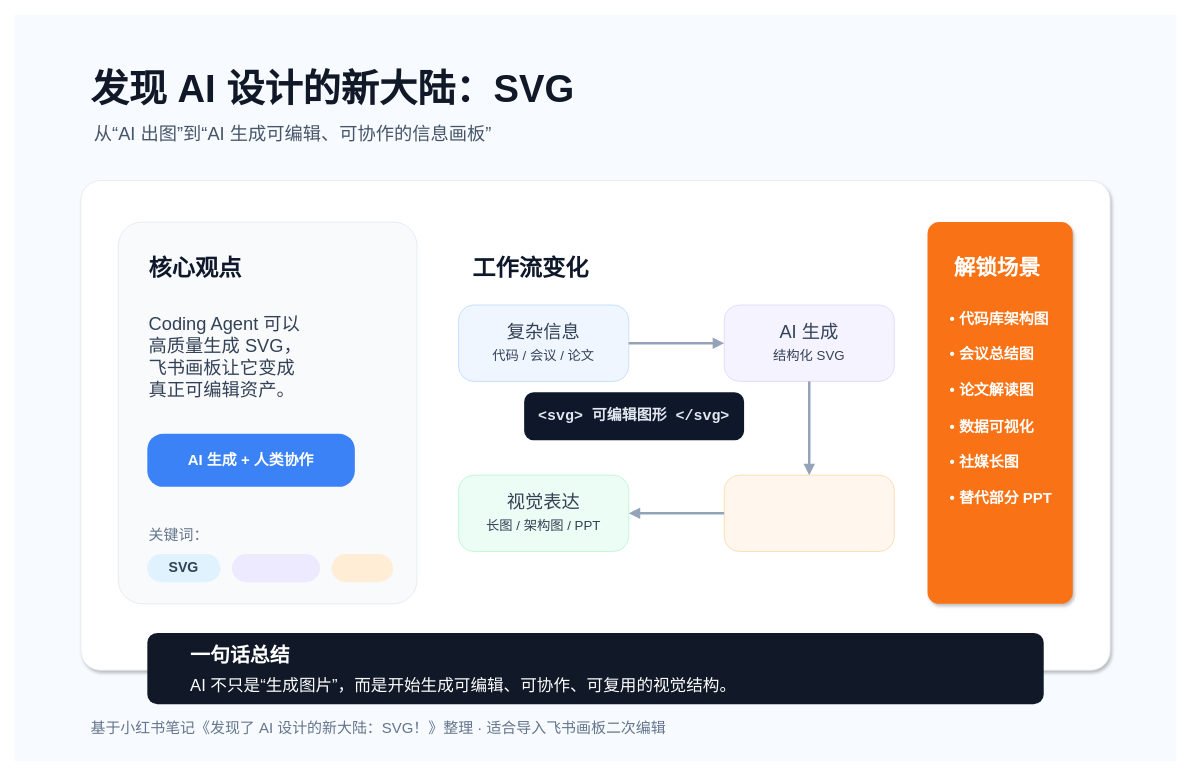
The diagram is 1190 pixels wide and 775 high, and some of its shapes have lost their labels. Here are the shapes that lost their labels. From the top down, the centre of each, then its label:
At point (808, 513): "飞书画板 编辑 / 评论 / 协作".
At point (276, 568): "Claude".
At point (362, 568): "飞书".
